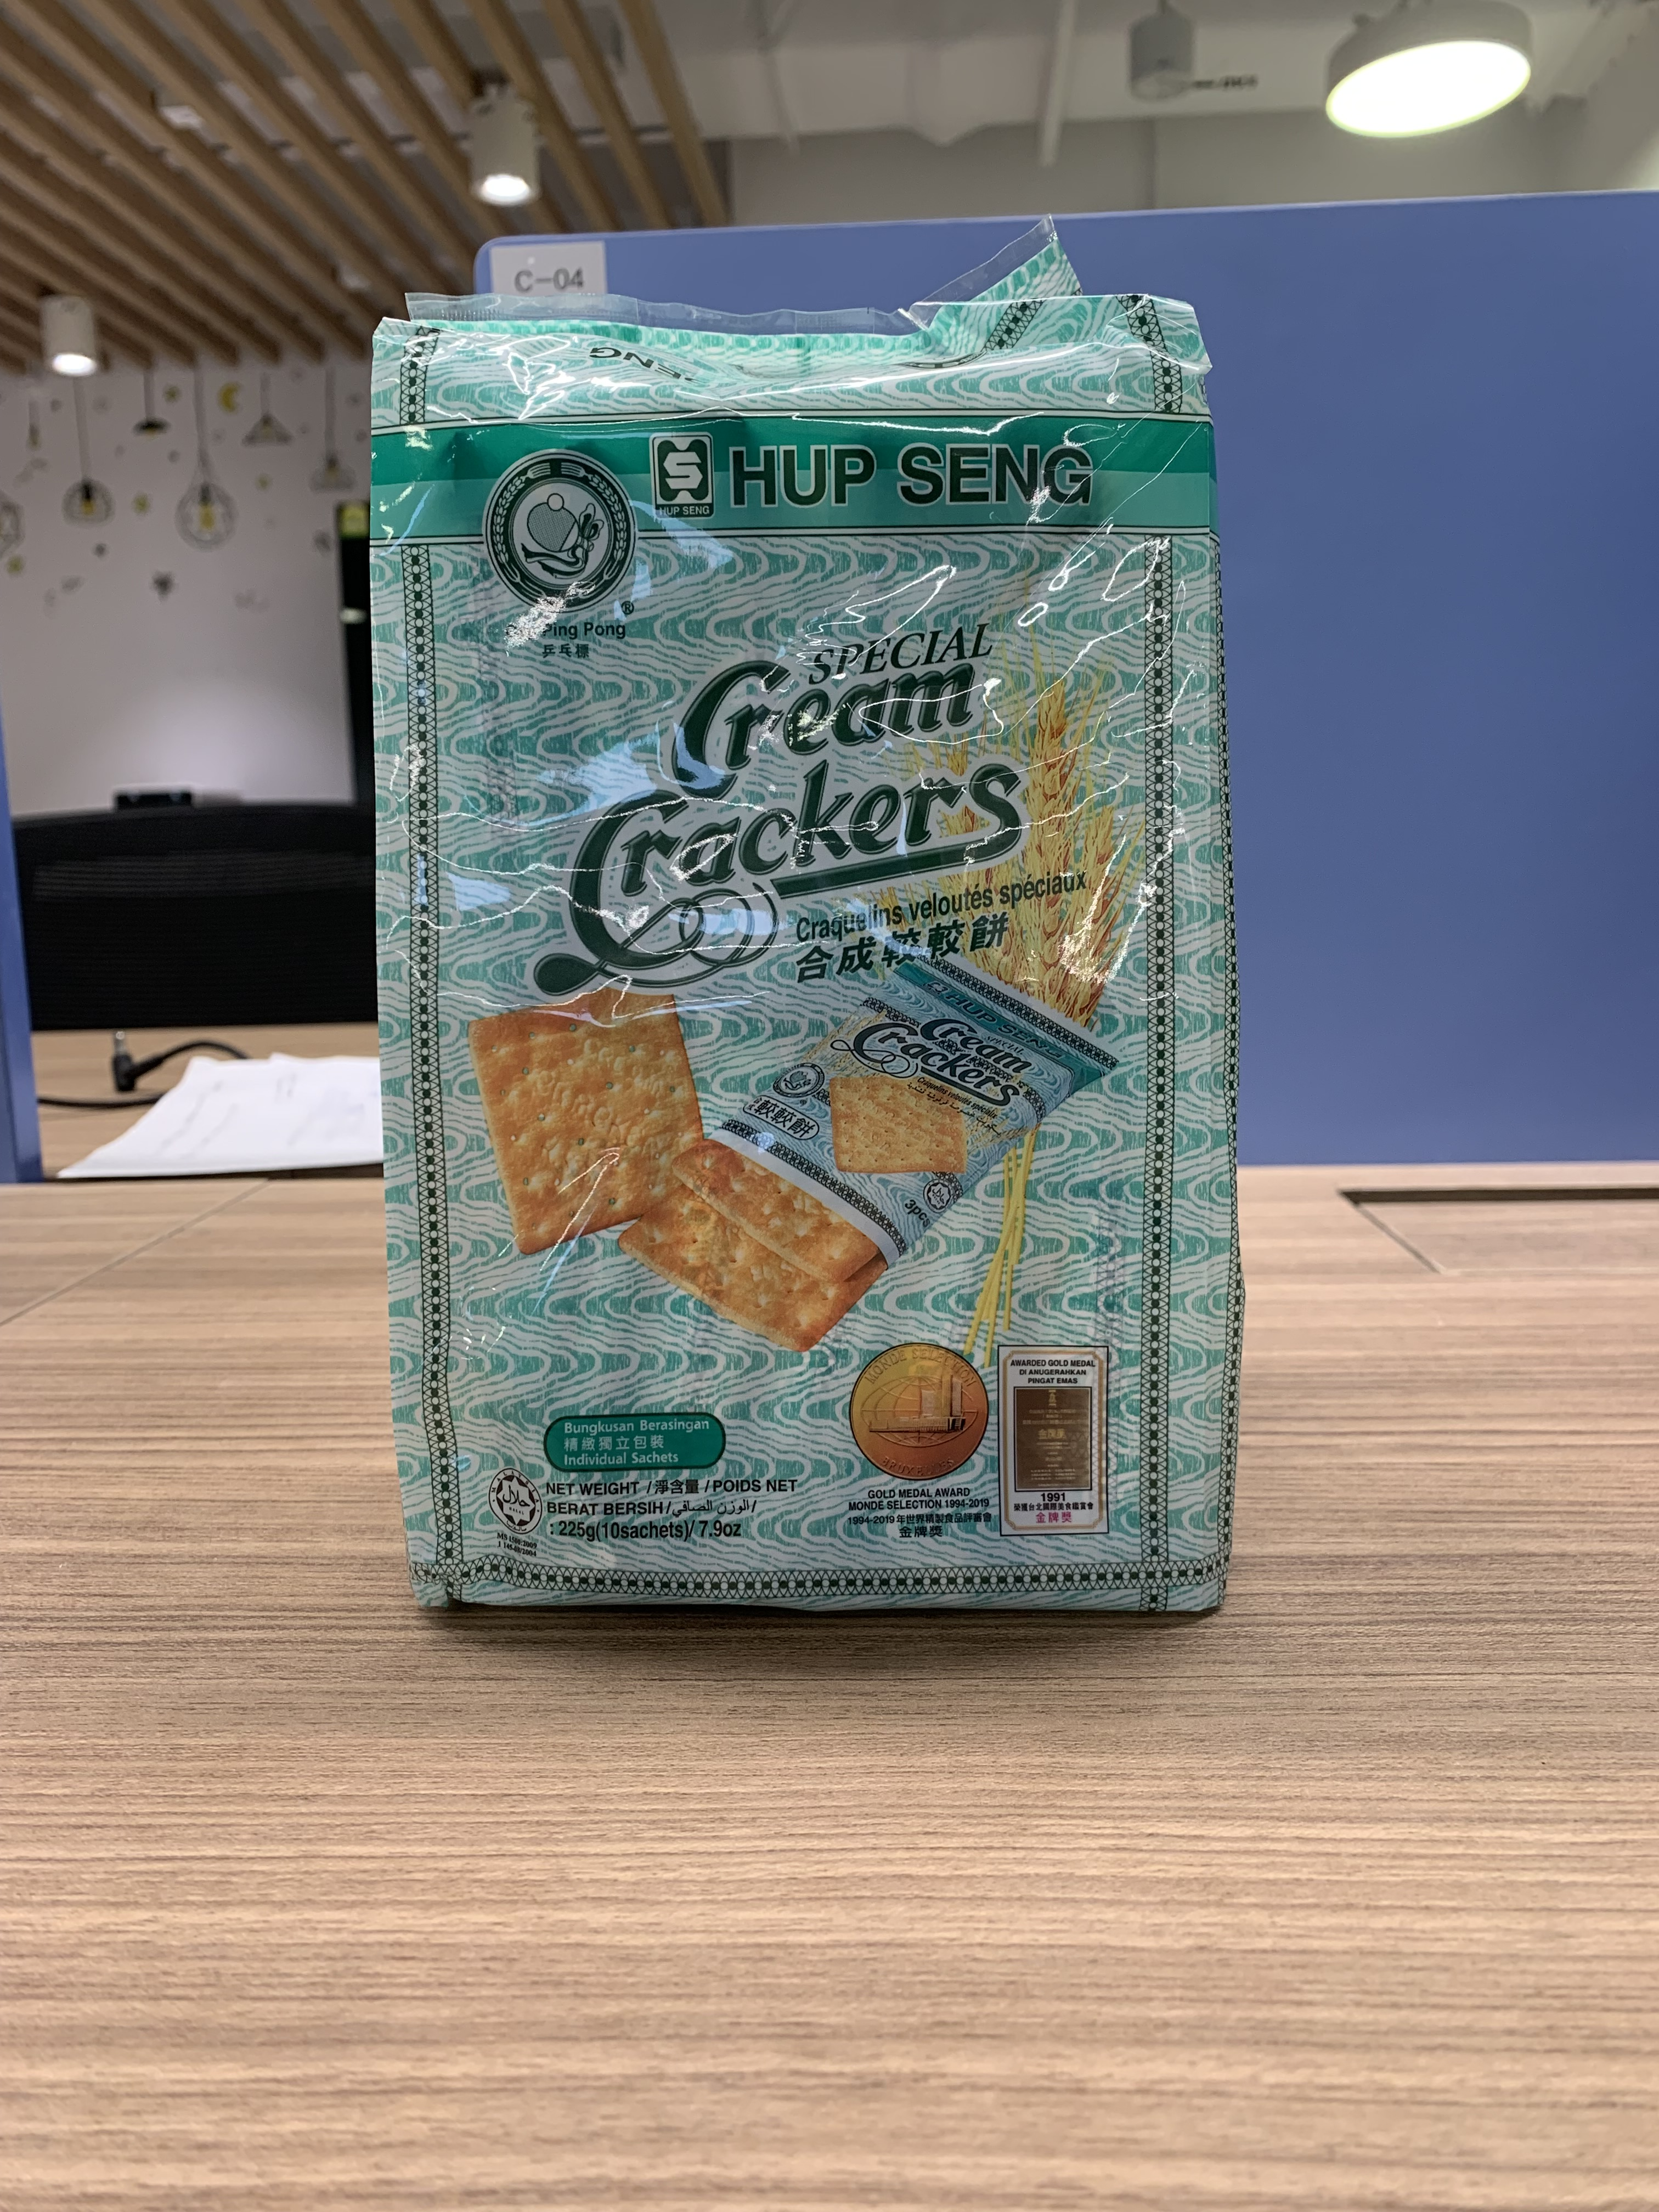crackers_200g-299g: (392, 317, 1211, 1597)
